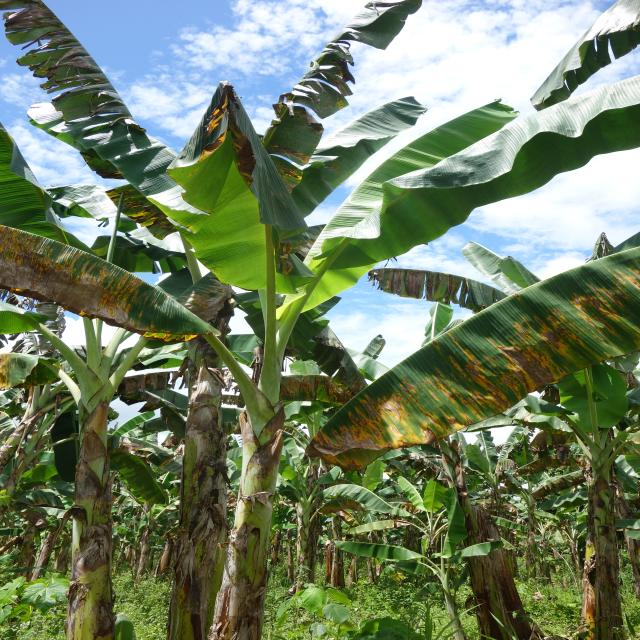Banana-plant: (207, 334, 311, 640), (55, 354, 127, 640), (166, 325, 230, 640), (570, 424, 640, 640)
